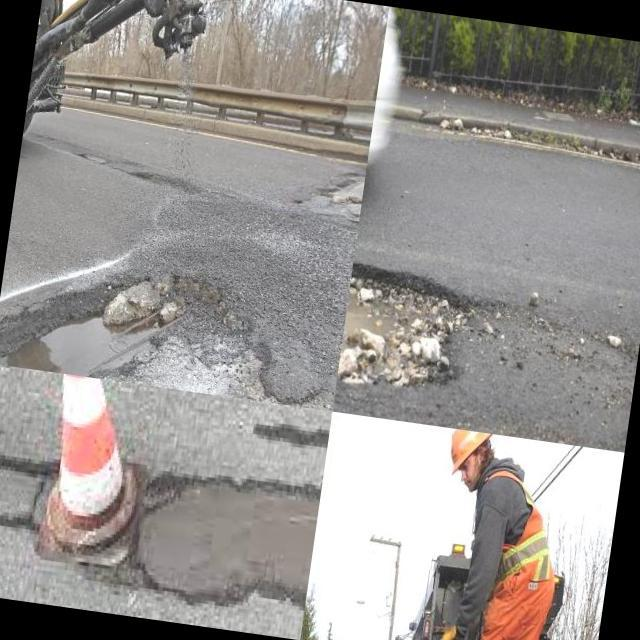Pothole: (0, 476, 321, 608), (0, 276, 260, 379), (336, 261, 478, 389)
